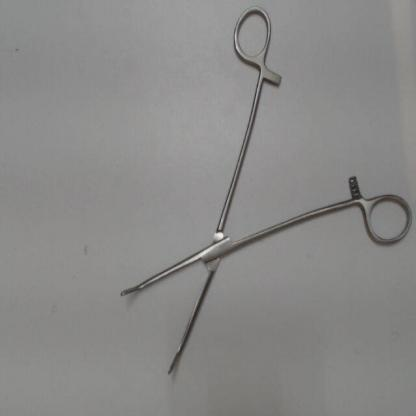Lahey Forceps: (115, 1, 414, 380)
